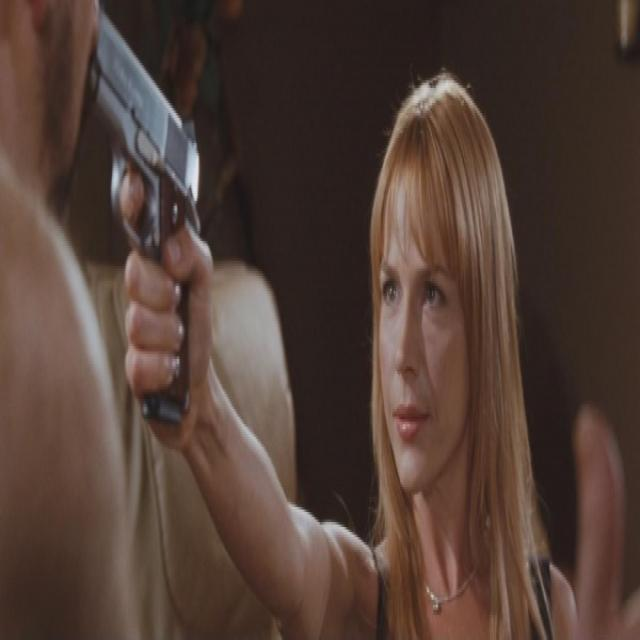weapons: (60, 0, 212, 458)
